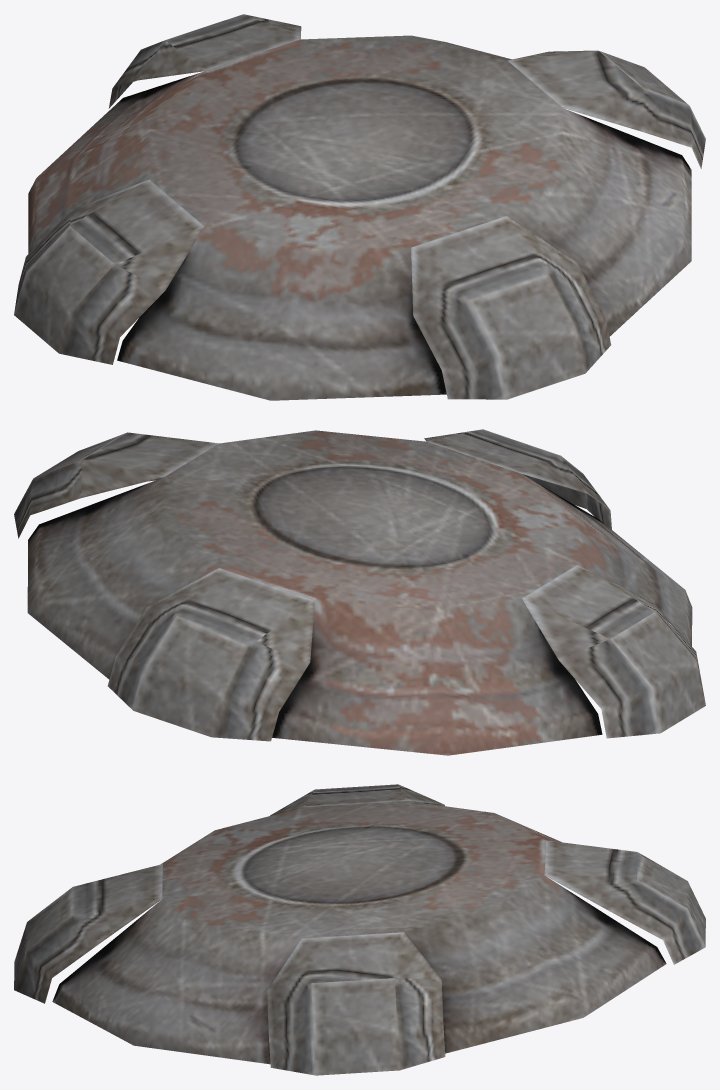
File: prop_barrel_destructable_lid_collision.fbx
3 renders of one model, top to bottom at view 1: azimuth 30°, elevation 25°; view 2: azimuth 150°, elevation 25°; view 3: azimuth 270°, elevation 25°, orthographic. The views are drawn at different scales.
Visible parts, largest first — view 1: prop_barrel_l02_lid_collision; view 2: prop_barrel_l02_lid_collision; view 3: prop_barrel_l02_lid_collision.
Boxes of the visible parts, x1=… form: prop_barrel_l02_lid_collision: x1=14, y1=14, x2=705, y2=400; prop_barrel_l02_lid_collision: x1=14, y1=429, x2=705, y2=755; prop_barrel_l02_lid_collision: x1=14, y1=784, x2=705, y2=1075.
Size of the model in its own units: 117 by 24.84 by 117.
